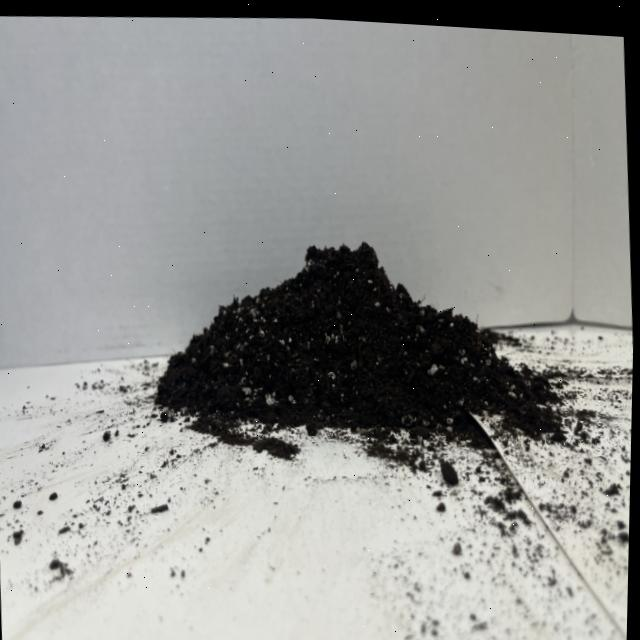soil: (142, 215, 574, 474)
